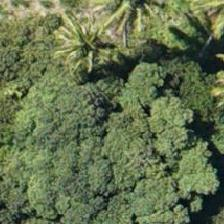coconut_tree: (48, 0, 138, 90)
